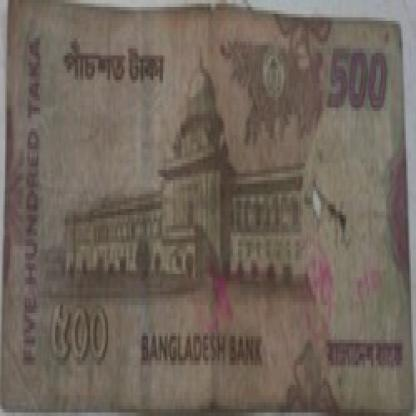500 taka: (58, 49, 186, 104), (322, 52, 404, 121)
